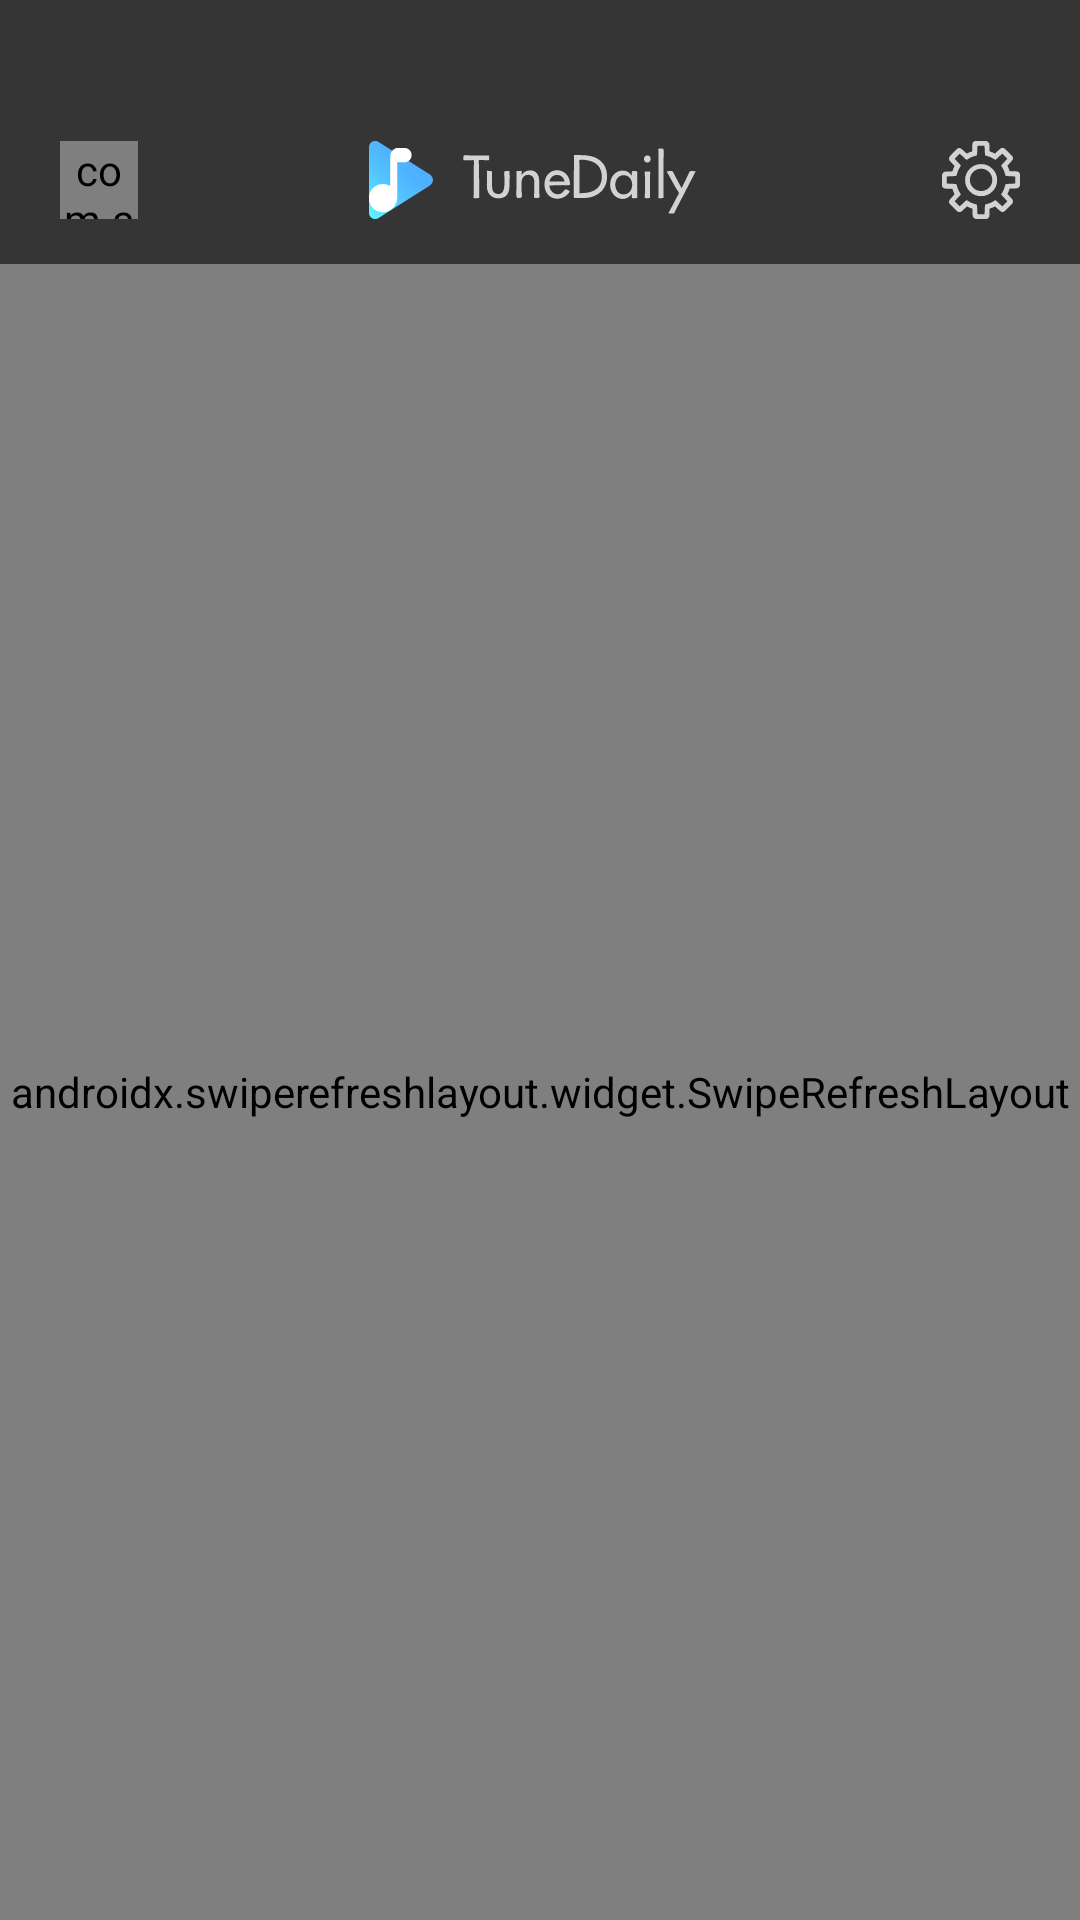

Point at icon controls on the screen. Image size 1080 x 1920, points as [x,y].
settings: [981,180]
